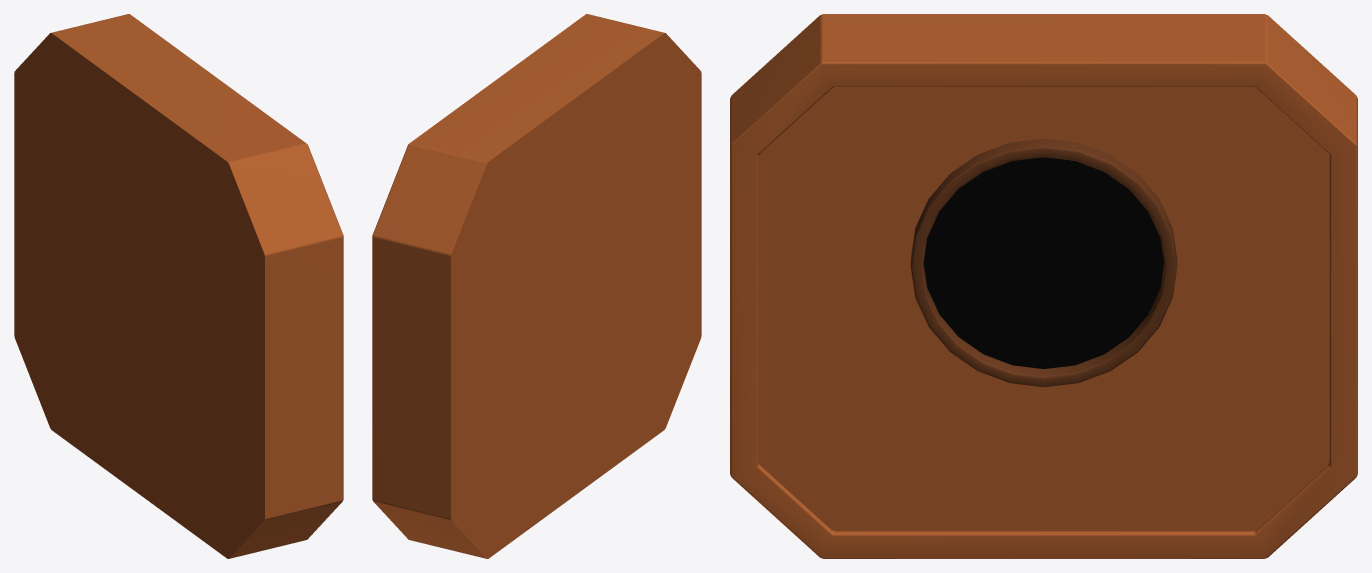
File: SP_House01_Vent01.fbx
3 renders of one model, left to right at view 1: azimuth 30°, elevation 25°; view 2: azimuth 150°, elevation 25°; view 3: azimuth 270°, elevation 25°, orthographic. The views are drawn at different scales.
Parts seen in each view (by area): view 1: SP_House01_Vent01; view 2: SP_House01_Vent01; view 3: SP_House01_Vent01.
Boxes of the visible parts, box(x1,y1,x2,y2) form: SP_House01_Vent01: box(14, 14, 343, 558); SP_House01_Vent01: box(372, 14, 701, 558); SP_House01_Vent01: box(730, 14, 1357, 558).
Bounding box in the file's own units: 0.3057 × 1.32 × 1.51.
